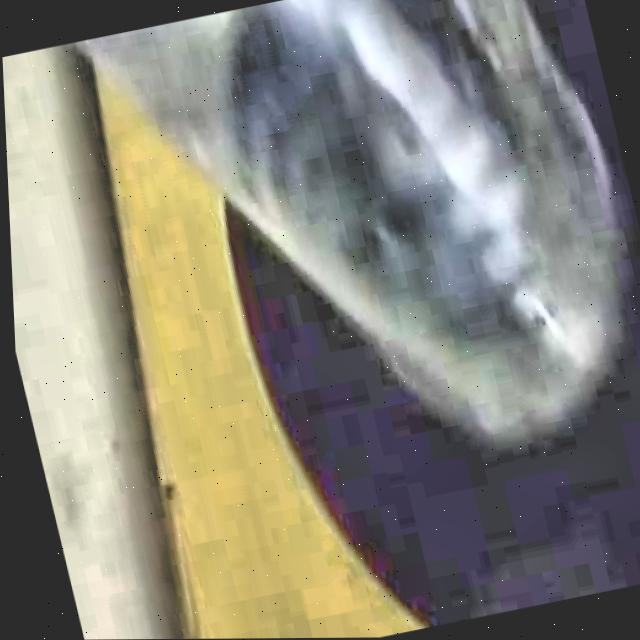plastic: (81, 0, 620, 438)
